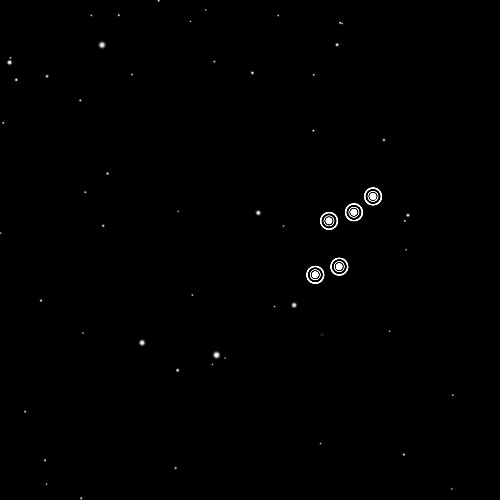lyra: (300, 176, 391, 292)
